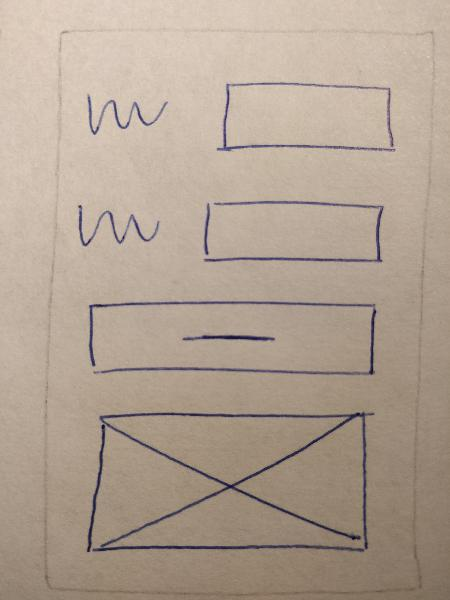button: (73, 291, 382, 384)
image: (74, 403, 382, 567)
text: (77, 80, 177, 146), (69, 196, 165, 256)
text_input: (207, 74, 410, 163), (191, 190, 398, 276)
